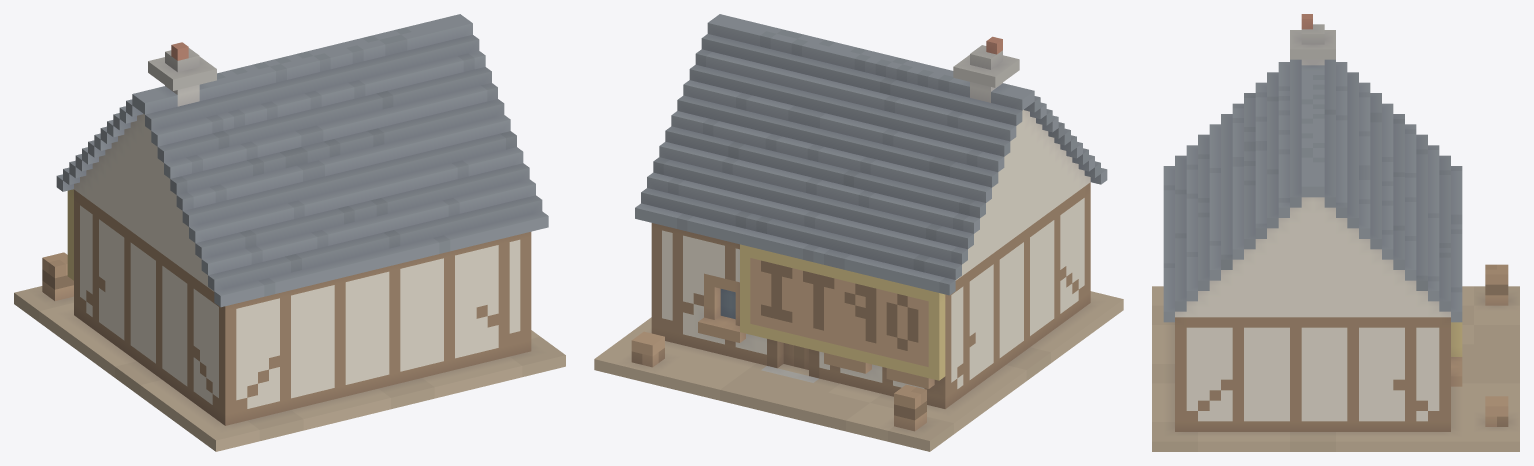
Rendered from optician.glb.
The picture shows the model from 3 angles, left to right: view 1: azimuth 30°, elevation 25°; view 2: azimuth 150°, elevation 25°; view 3: azimuth 270°, elevation 25°; orthographic projection. The views are drawn at different scales.
Visible parts, largest first — view 1: optician; view 2: optician; view 3: optician.
Boxes of the visible parts, box(x1,y1,x2,y2) form: optician: box(14, 14, 565, 451); optician: box(594, 14, 1123, 451); optician: box(1152, 14, 1519, 451).
Size of the model in its own units: 4 by 3.62 by 4.
